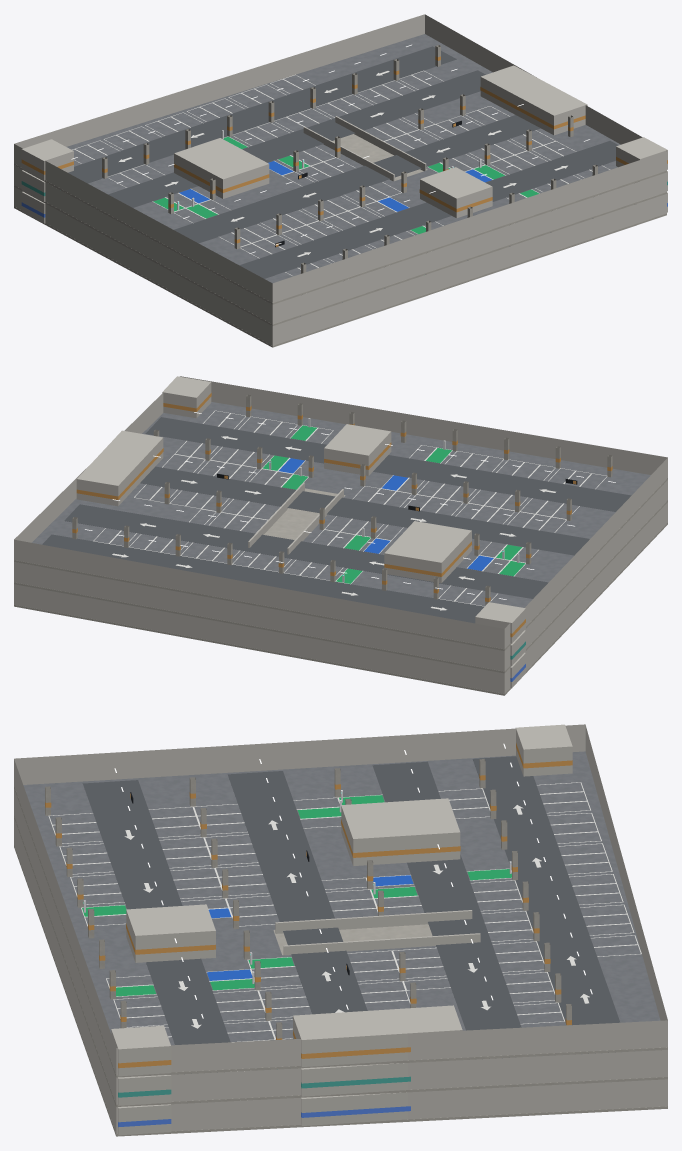
The model's file is parking.glb.
3 views of the same model, one above another, from view 1: azimuth 30°, elevation 25°; view 2: azimuth 150°, elevation 25°; view 3: azimuth 270°, elevation 25° (orthographic). The views are drawn at different scales.
Parts seen in each view (by area): view 1: PK_B1, PK_B3, PK_B2, PK_B1_marks, PK_B1_lights; view 2: PK_B1, PK_B3, PK_B2, PK_B1_marks, PK_B1_lights; view 3: PK_B1, PK_B3, PK_B2, PK_B1_marks.
Boxes of the visible parts, x1,y1,x2,y2 form: PK_B1: [14, 14, 667, 304]; PK_B3: [14, 187, 667, 347]; PK_B2: [14, 165, 667, 326]; PK_B1_marks: [72, 70, 610, 276]; PK_B1_lights: [71, 44, 589, 253]; PK_B1: [14, 376, 667, 650]; PK_B3: [14, 502, 667, 695]; PK_B2: [14, 480, 667, 673]; PK_B1_marks: [93, 410, 607, 610]; PK_B1_lights: [85, 412, 615, 599]; PK_B1: [14, 724, 667, 1077]; PK_B3: [14, 818, 667, 1136]; PK_B2: [14, 789, 667, 1106]; PK_B1_marks: [48, 782, 641, 1042].
Size of the model in its own units: 85.08 by 10.8 by 72.35.
15 materials, 2 textured.
